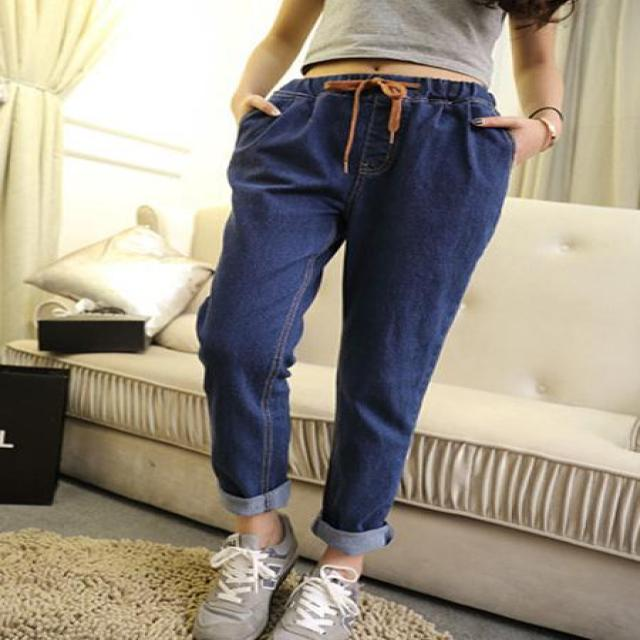short sleeve top: (304, 0, 506, 89)
trousers: (202, 74, 495, 543)
